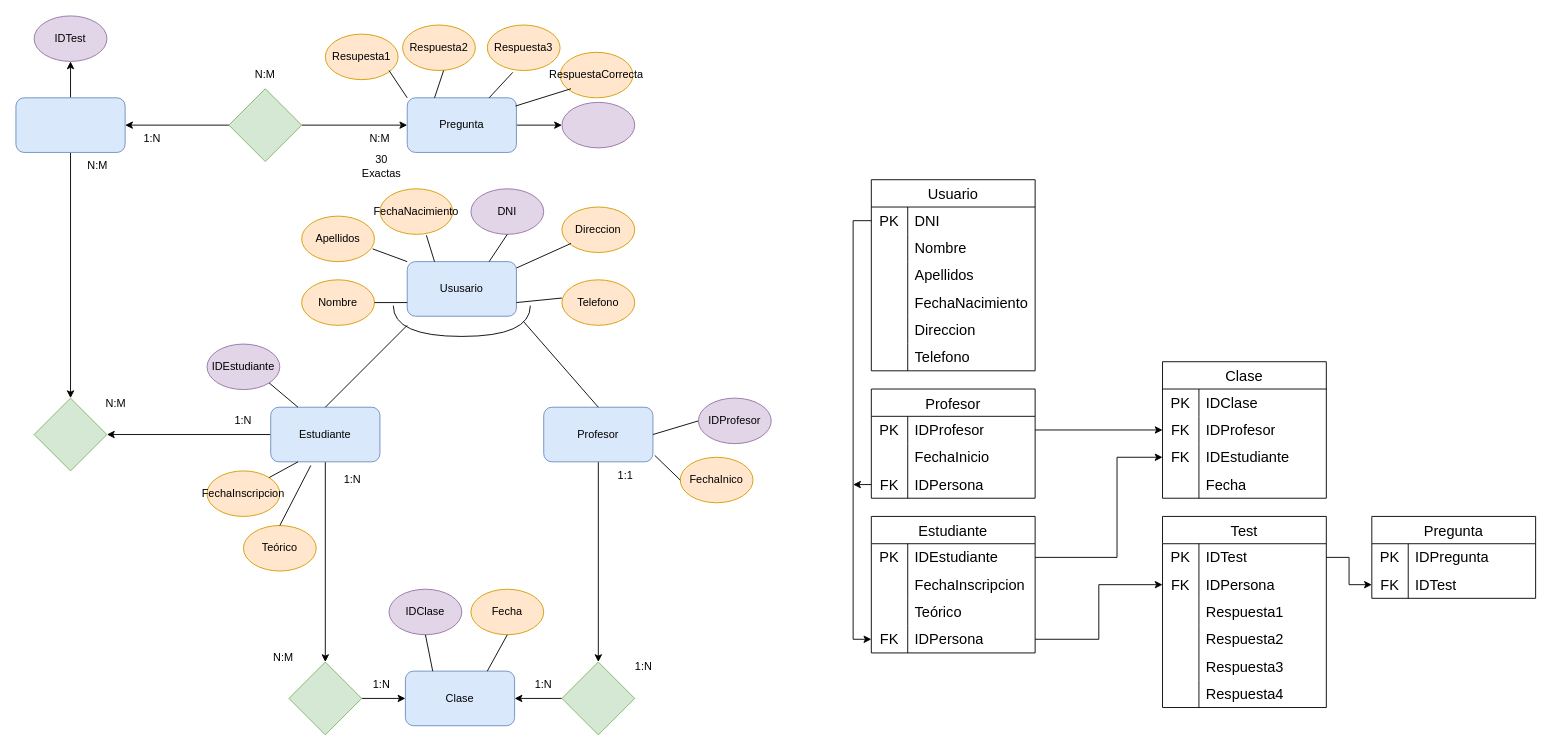
Some shapes in this 1552 by 751 pixel diagram are drawn without their labels. The centre of each missing label's shape, as x and y in pixels:
Asiste: point 325,698
Hace: point 70,434
Imparte: point 598,698
NumPregunta: point 598,124
Tests: point 70,124
Tiene: point 265,125
